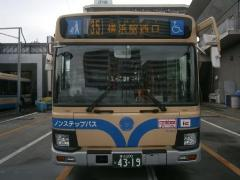destination: (82, 16, 169, 36)
